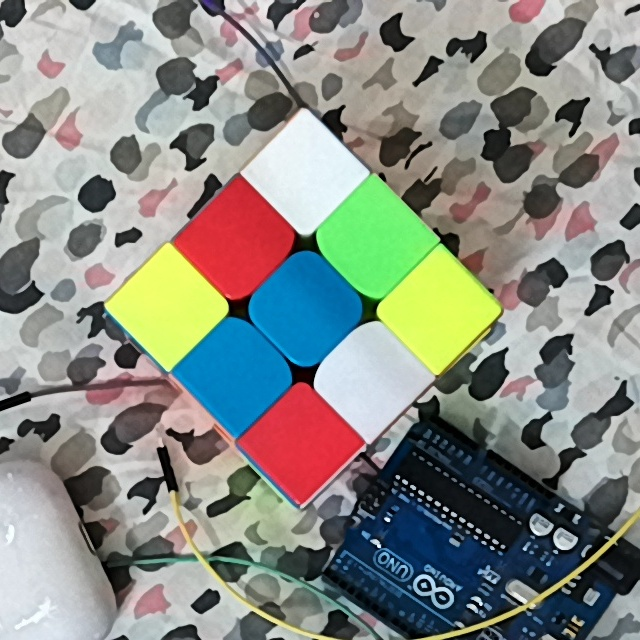tile: (274, 275, 339, 340), (337, 210, 405, 271), (206, 209, 268, 274), (273, 143, 342, 201), (340, 344, 401, 408), (203, 344, 267, 405), (406, 279, 471, 337), (272, 413, 333, 472), (138, 277, 199, 335)
